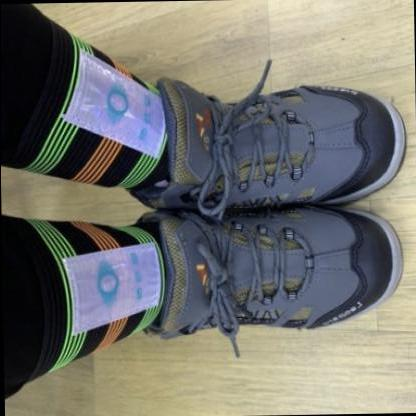safety-shoe: (132, 202, 400, 351), (141, 61, 398, 205)
